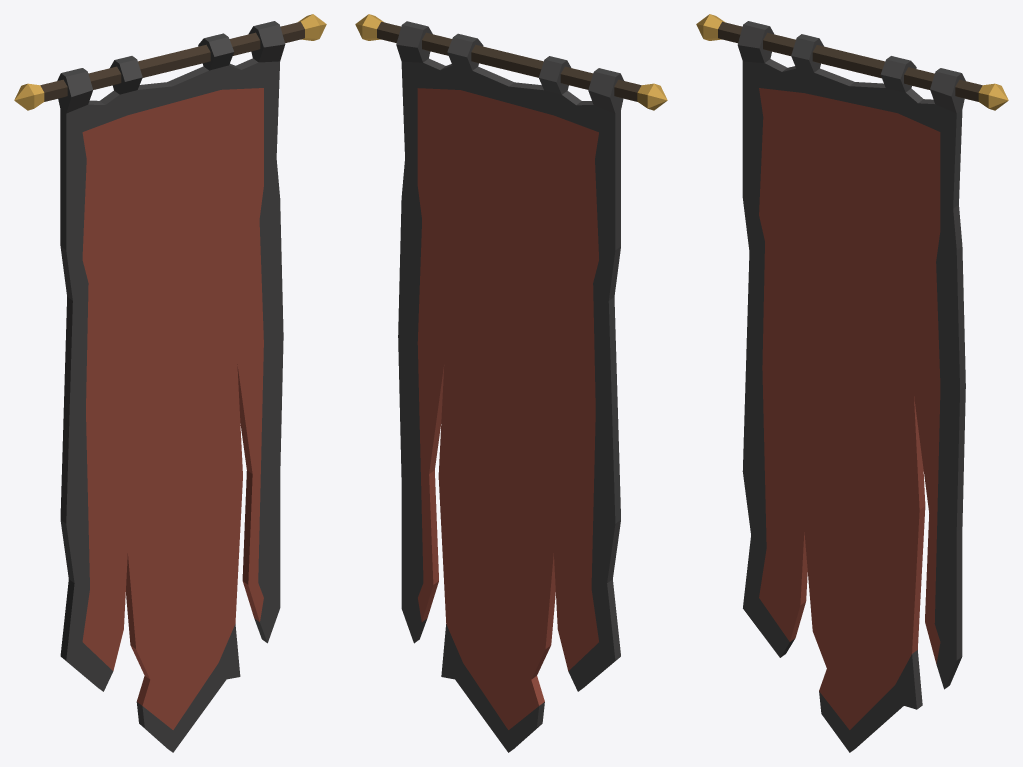
Rendered from SM_Prop_Wall_Banner_01.glb.
3 views of the same model, side by side, from view 1: azimuth 30°, elevation 25°; view 2: azimuth 150°, elevation 25°; view 3: azimuth 330°, elevation 25° (orthographic).
Parts seen in each view (by area): view 1: SM_Prop_Wall_Banner_01; view 2: SM_Prop_Wall_Banner_01; view 3: SM_Prop_Wall_Banner_01.
Boxes of the visible parts, <box> form: SM_Prop_Wall_Banner_01: <box>14,14,326,752</box>; SM_Prop_Wall_Banner_01: <box>355,14,667,752</box>; SM_Prop_Wall_Banner_01: <box>696,14,1008,752</box>.
Bounding box in the file's own units: 0.02 × 0.0429 × 0.00181.
1 material, 1 textured.
